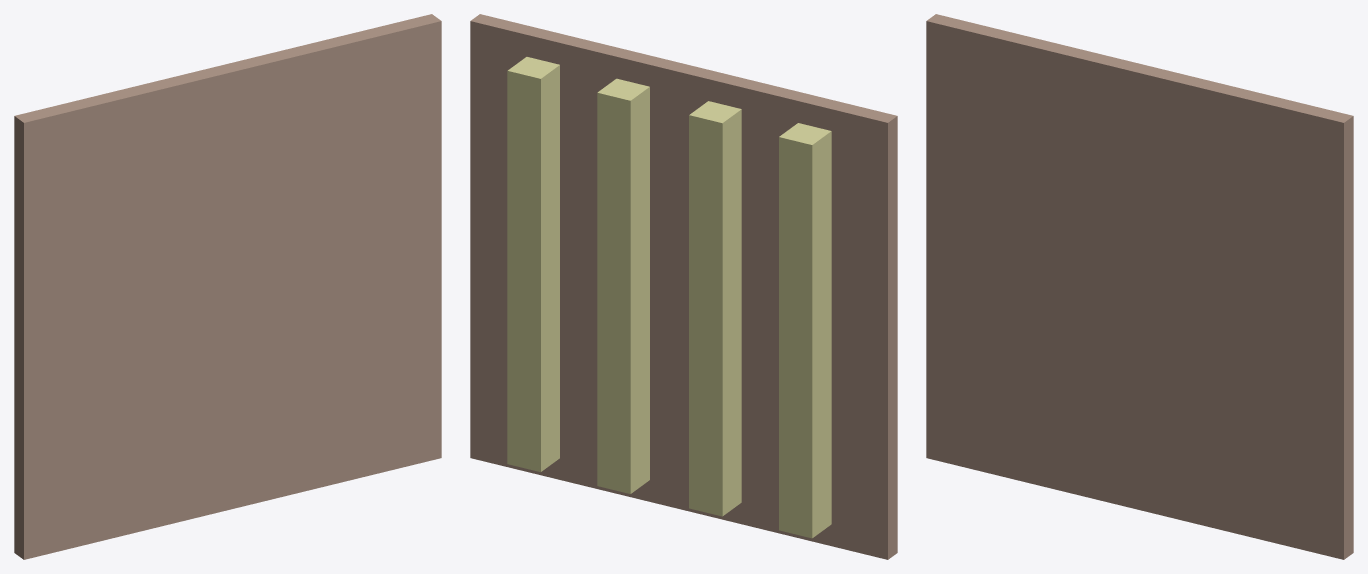
File: crop-rows.glb
3 renders of one model, left to right at view 1: azimuth 30°, elevation 25°; view 2: azimuth 150°, elevation 25°; view 3: azimuth 330°, elevation 25°, orthographic.
Visible parts, largest first — view 1: crop-rows; view 2: crop-rows; view 3: crop-rows.
Part boxes in pixels (x1,y1,x2,y2): crop-rows: (14,14,441,559); crop-rows: (470,14,897,559); crop-rows: (926,14,1353,559).
Size of the model in its own units: 2 by 2 by 0.24.
